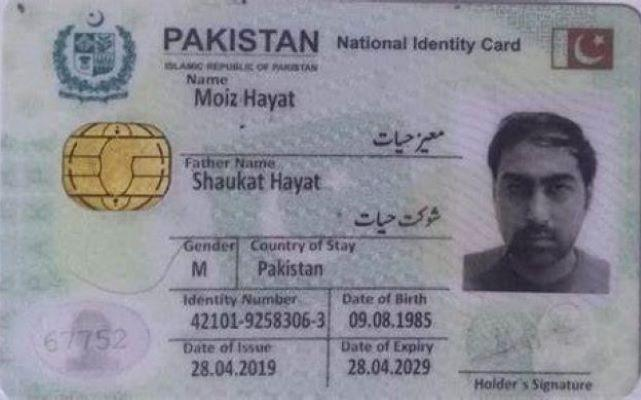fname: (190, 168, 324, 195)
name: (188, 86, 298, 114)
number: (185, 307, 329, 334)
